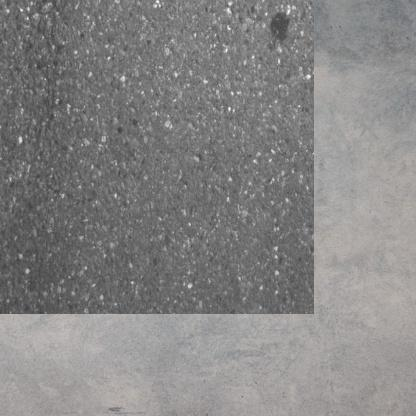Cracks: (40, 0, 65, 102)
